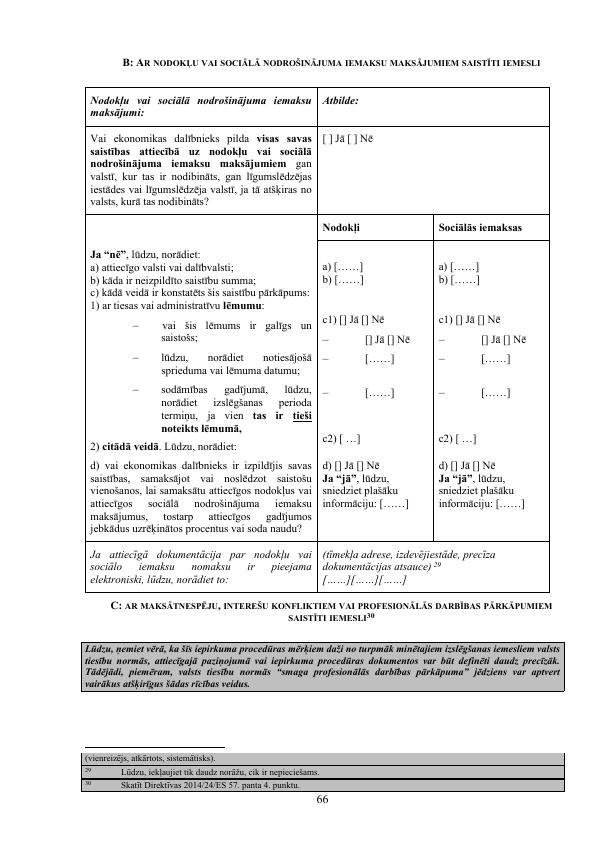table: (82, 84, 557, 596), (77, 749, 568, 791)
text: (82, 640, 563, 689), (108, 598, 558, 625), (117, 54, 543, 71)
